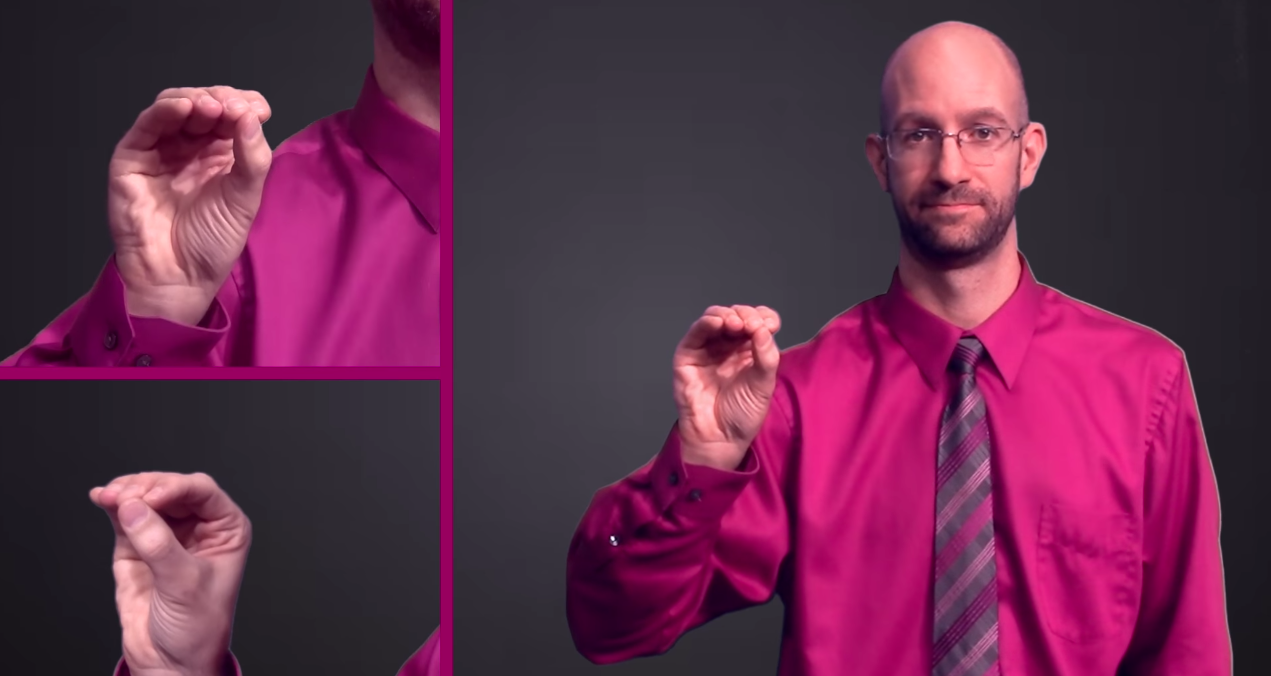o: (87, 63, 291, 315), (76, 457, 263, 676), (656, 290, 794, 474)
